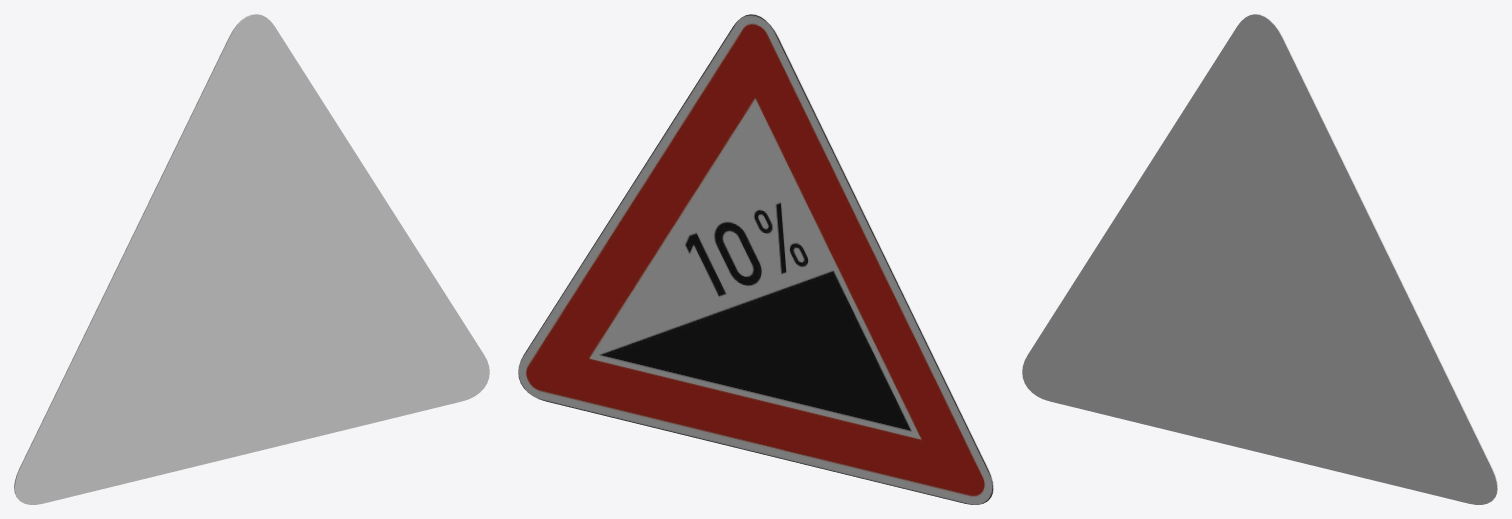
The picture shows the model from 3 angles, left to right: view 1: azimuth 30°, elevation 25°; view 2: azimuth 150°, elevation 25°; view 3: azimuth 330°, elevation 25°; orthographic projection.
Parts seen in each view (by area): view 1: Plane; view 2: Plane; view 3: Plane.
Part boxes in pixels (x1=…): Plane: x1=14, y1=14, x2=489, y2=504; Plane: x1=518, y1=14, x2=993, y2=504; Plane: x1=1022, y1=14, x2=1497, y2=504.
Bounding box in the file's own units: 0.8393 × 0.7391 × 0.002.
Materials: 2 (1 with a texture image).
